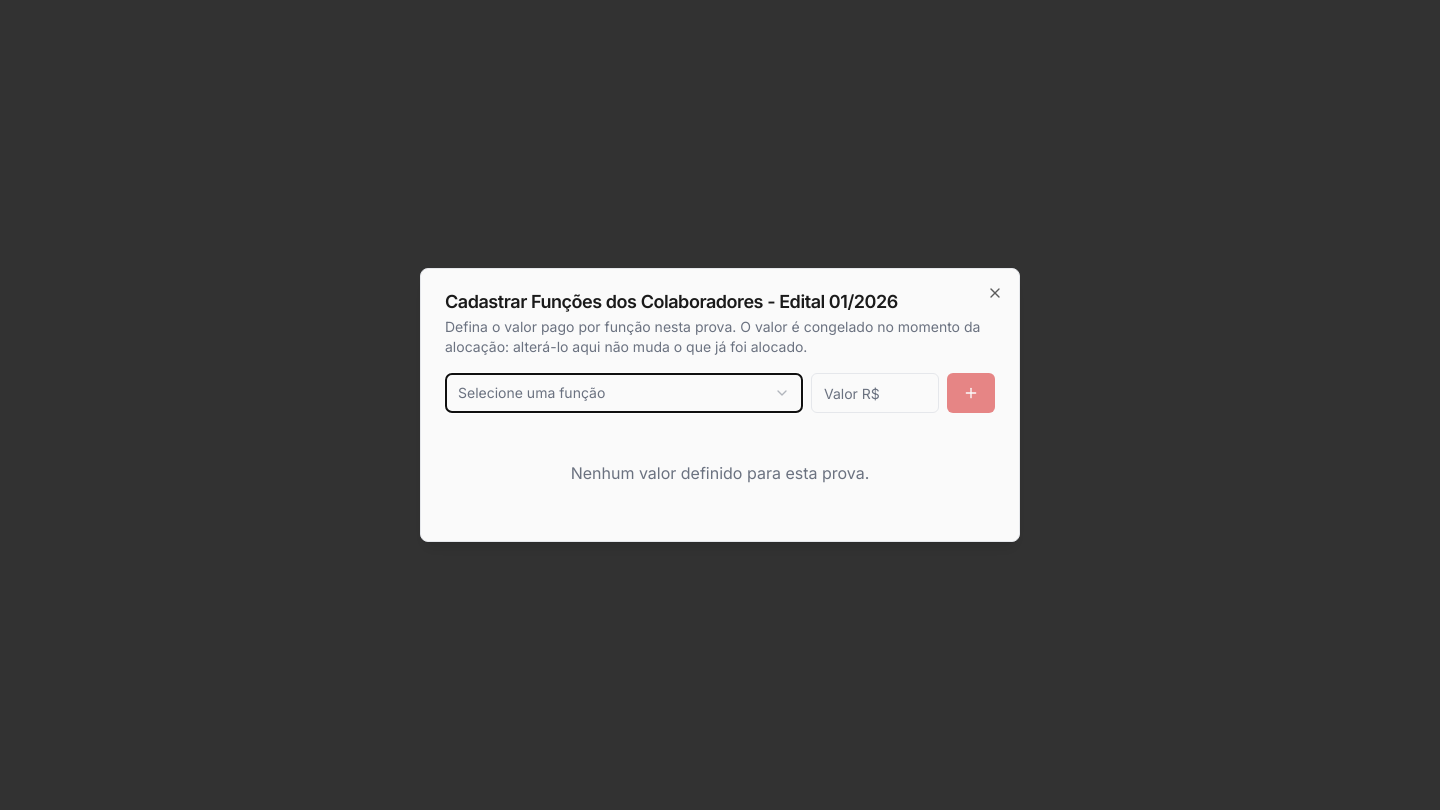
ValoresFuncaoProvaDialog (interação) › adicionar valor › exige função E valor antes de habilitar o botão
The image size is (1440, 810).
expect the 2nd button is disabled: met, box [947,373,995,413]
Click the dropdown.
click(532, 392)  # box [445,373,803,413]
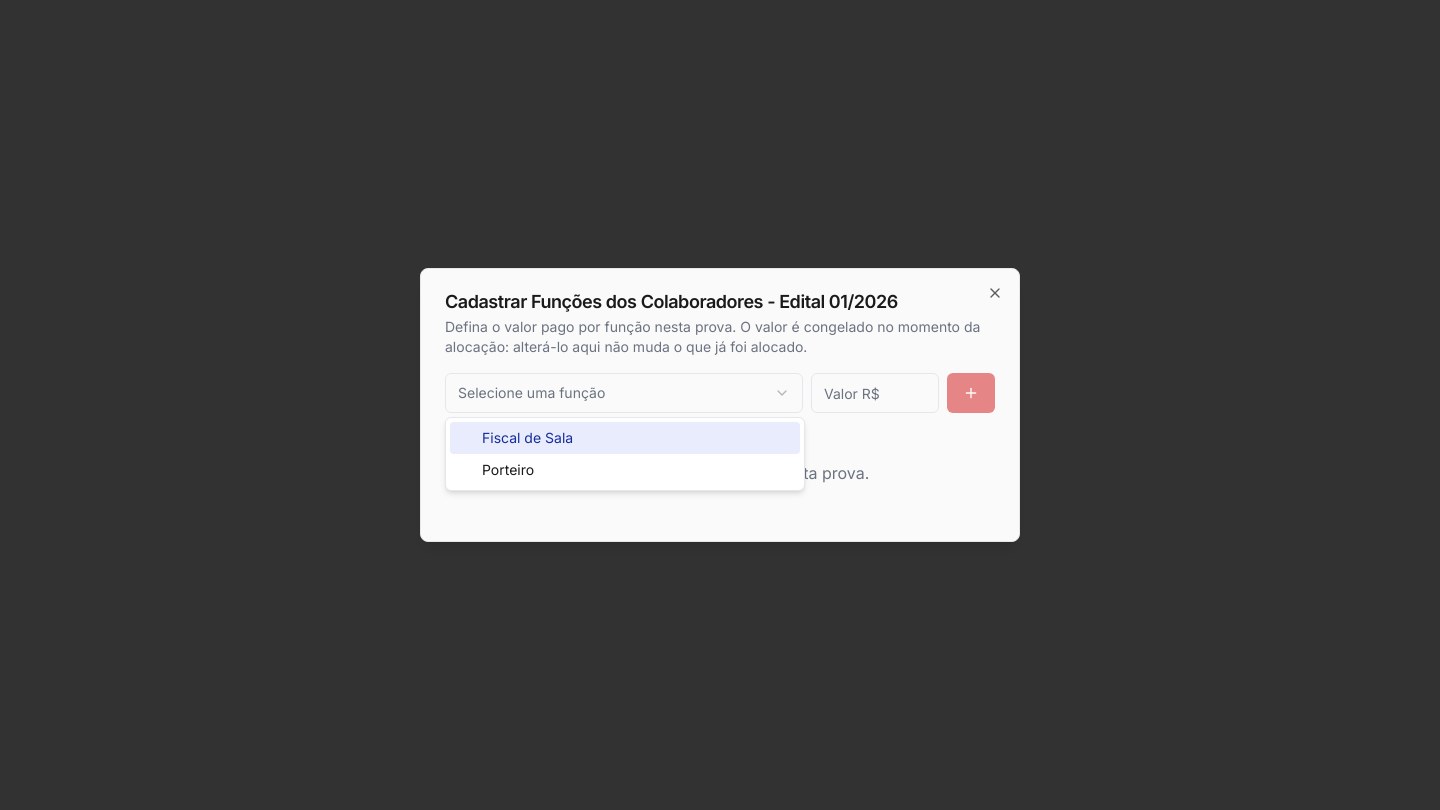
Click the option "Fiscal de Sala".
click(528, 438)  # box [450,422,800,454]
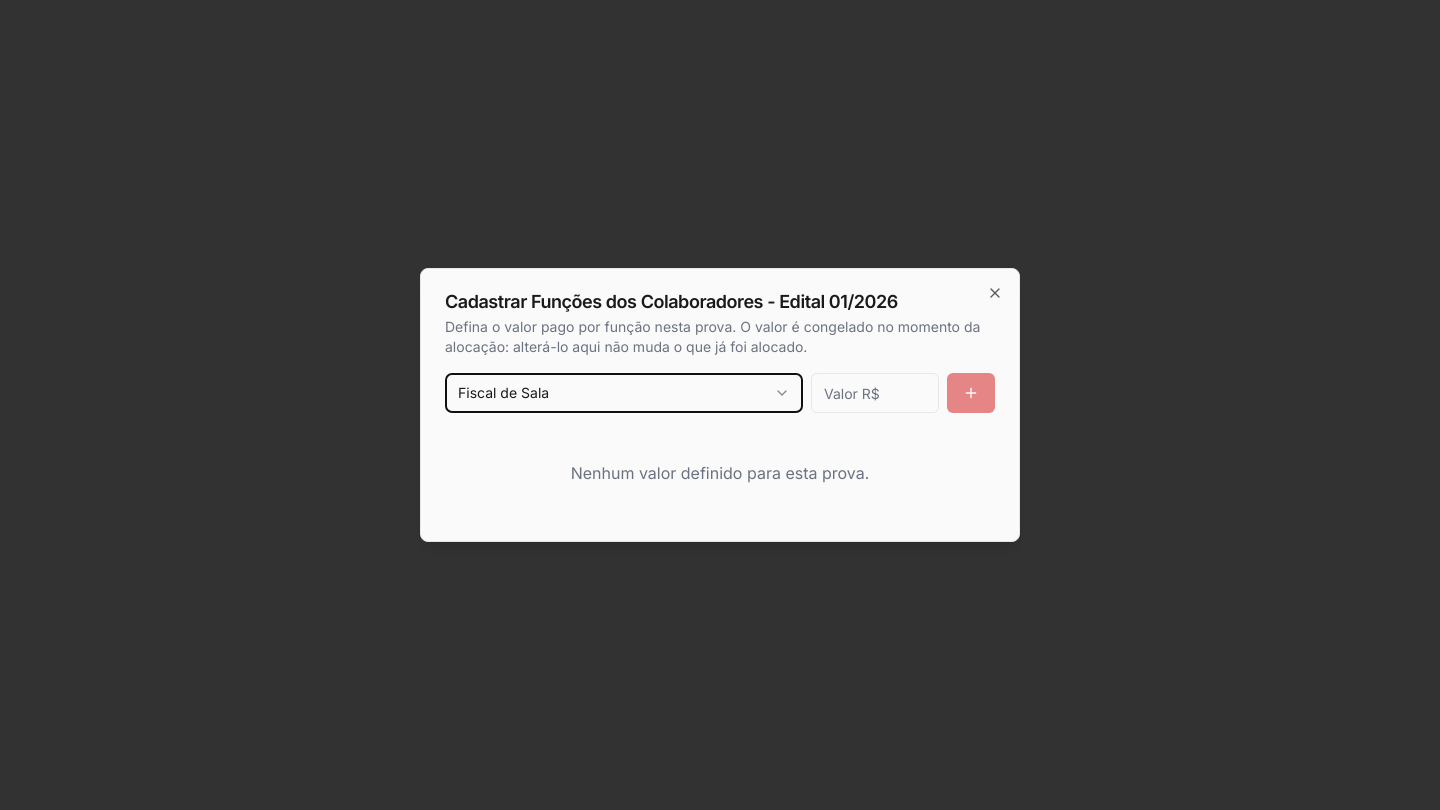
expect the 2nd button is disabled: met, box [947,373,995,413]
Type "150" into the number field with placeholder "Valor R$".
click(875, 393); type("150")  # box [811,373,939,413]
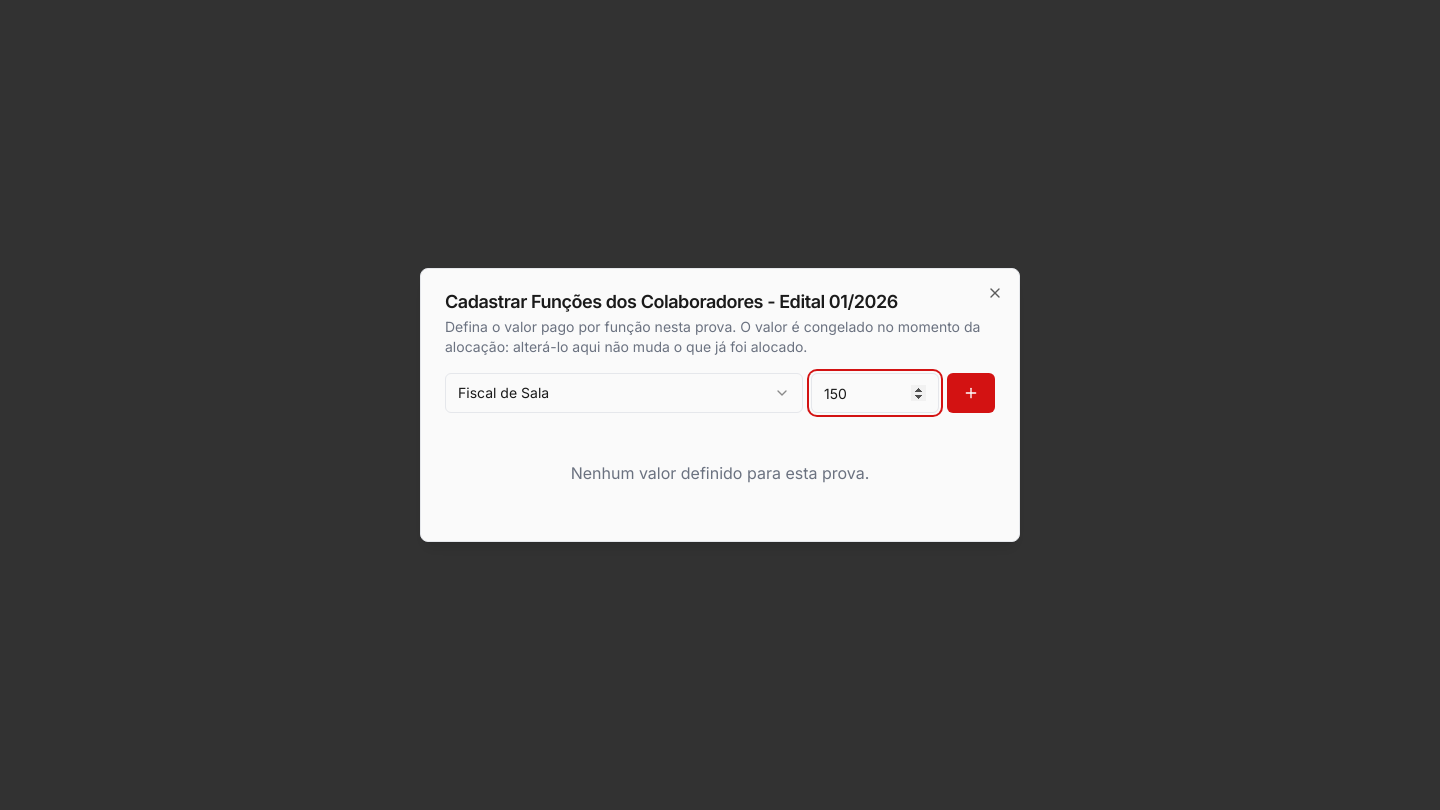
expect the 2nd button is enabled: met, box [947,373,995,413]
